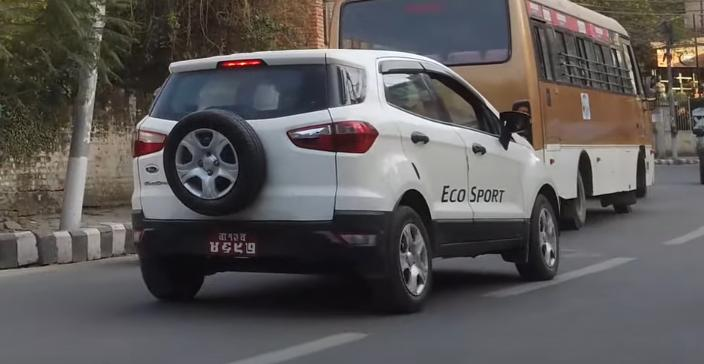bus: (333, 0, 659, 213)
car: (130, 44, 565, 317)
